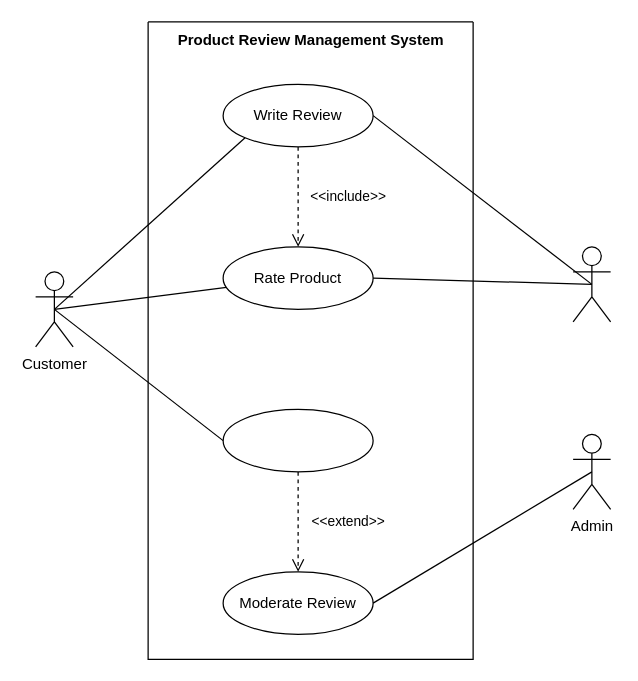
Image size: 638x681. Some labels were removed from this diagram. The shapes that lost their labels are listed below. From the top down, each one's centre as x and y in pixels, then its label:
(591,284): System
(297,440): Report Product
